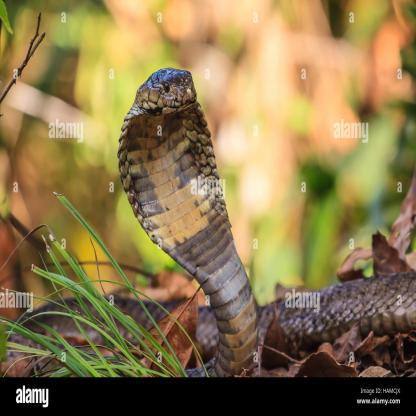Snake: (73, 65, 416, 378)
